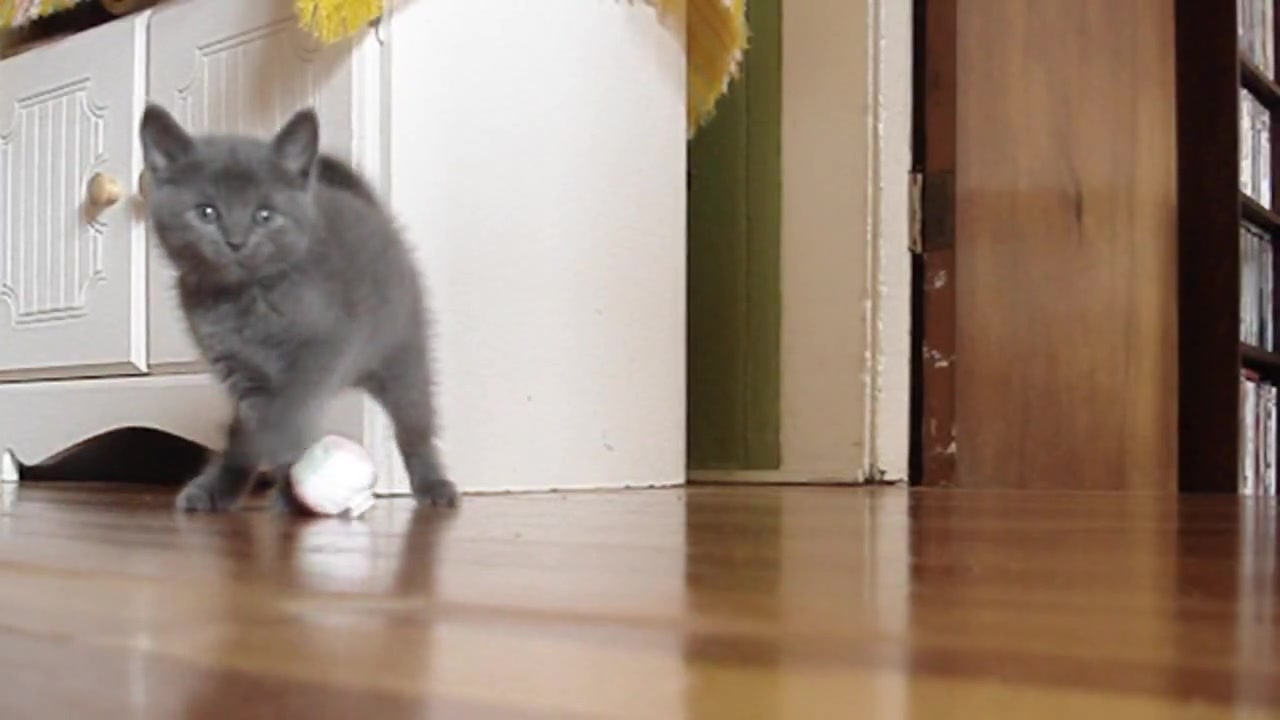cat: (138, 100, 461, 517)
